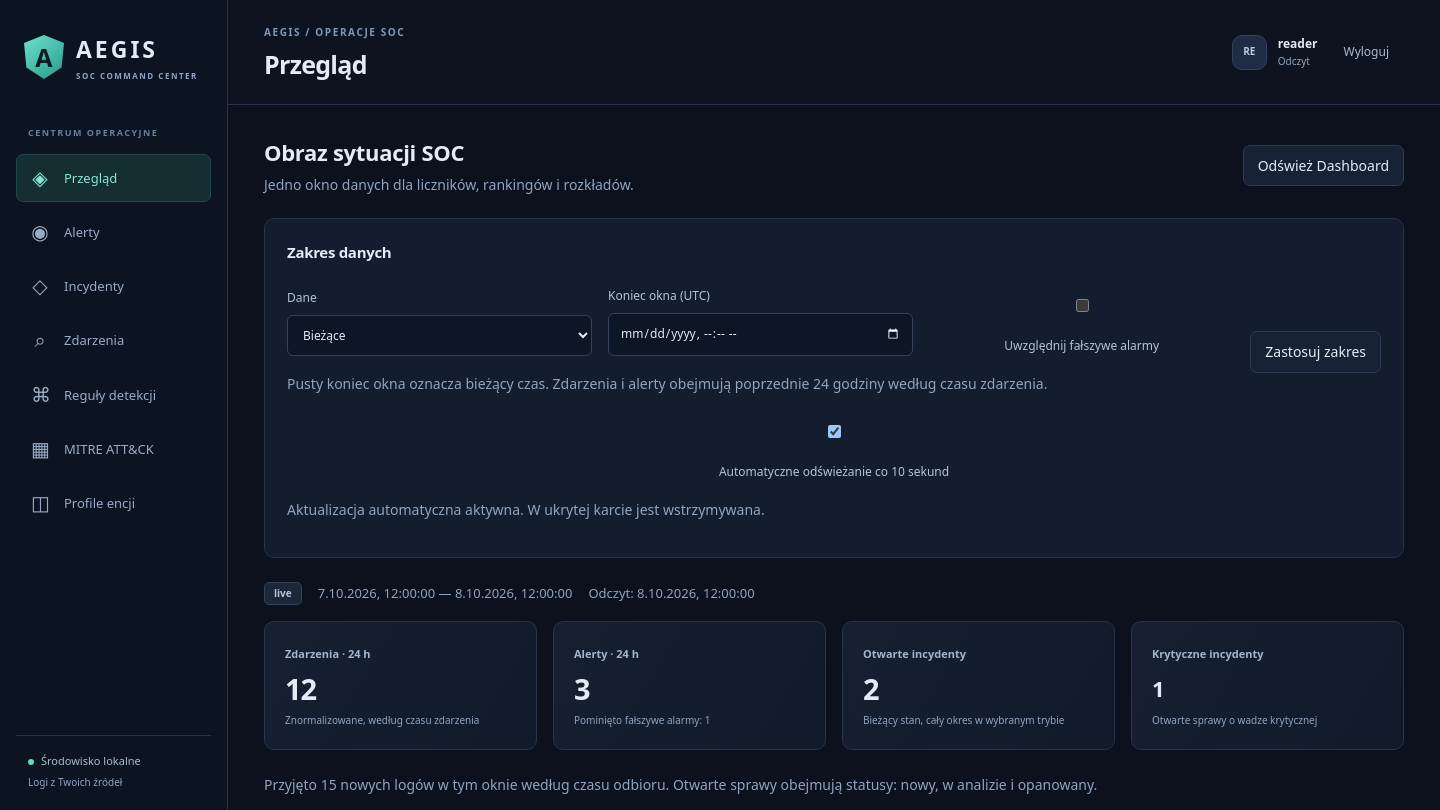
Scenario: read-only navigation exposes available data and no management sections
Expected: the navigation bar named "Menu główne" is shown, [16,154,211,527]
Expected: the text "Zdarzenia · 24 h" is shown, [285,646,371,661]
Click the button "⌕ Zdarzenia" at [114, 340], box [16,316,211,364]
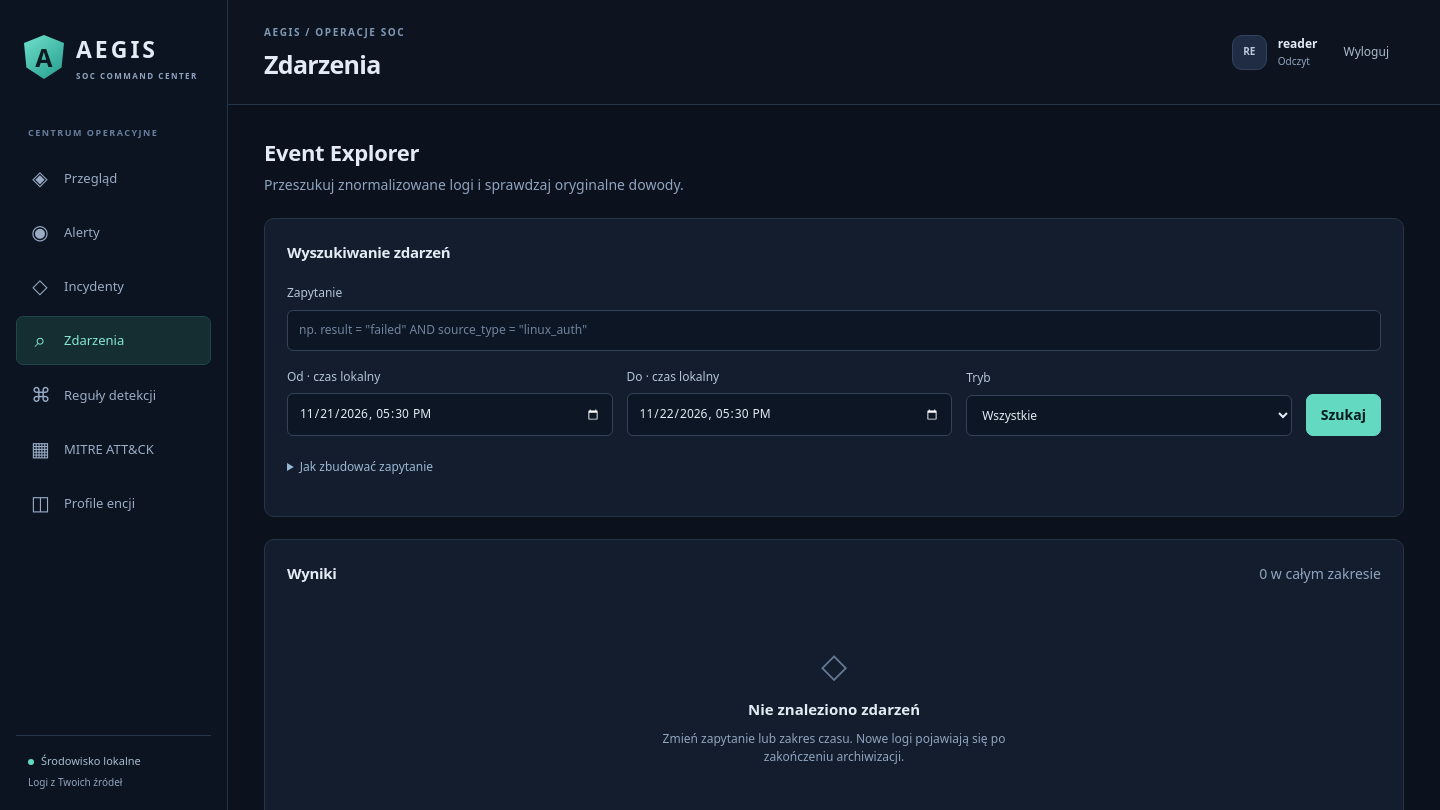
Result: the field labelled "Zapytanie" is shown at [287,310,1381,351]
Result: the heading "Nie znaleziono zdarzeń" is shown at [748,699,920,719]
